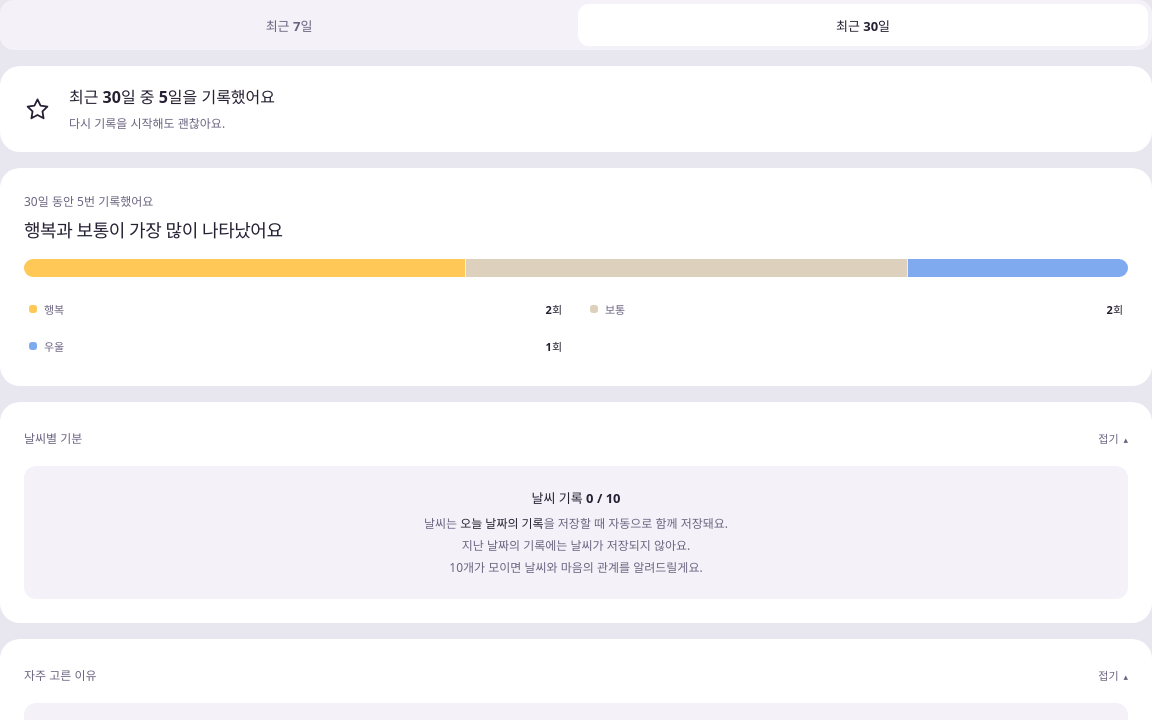
Scenario: 최근 30일 요약과 필터 › M7·M8 감정 범례를 누르면 걸러지고 다시 누르면 풀린다
Click the button named "행복2회" at (33,309), box [24,293,567,325]
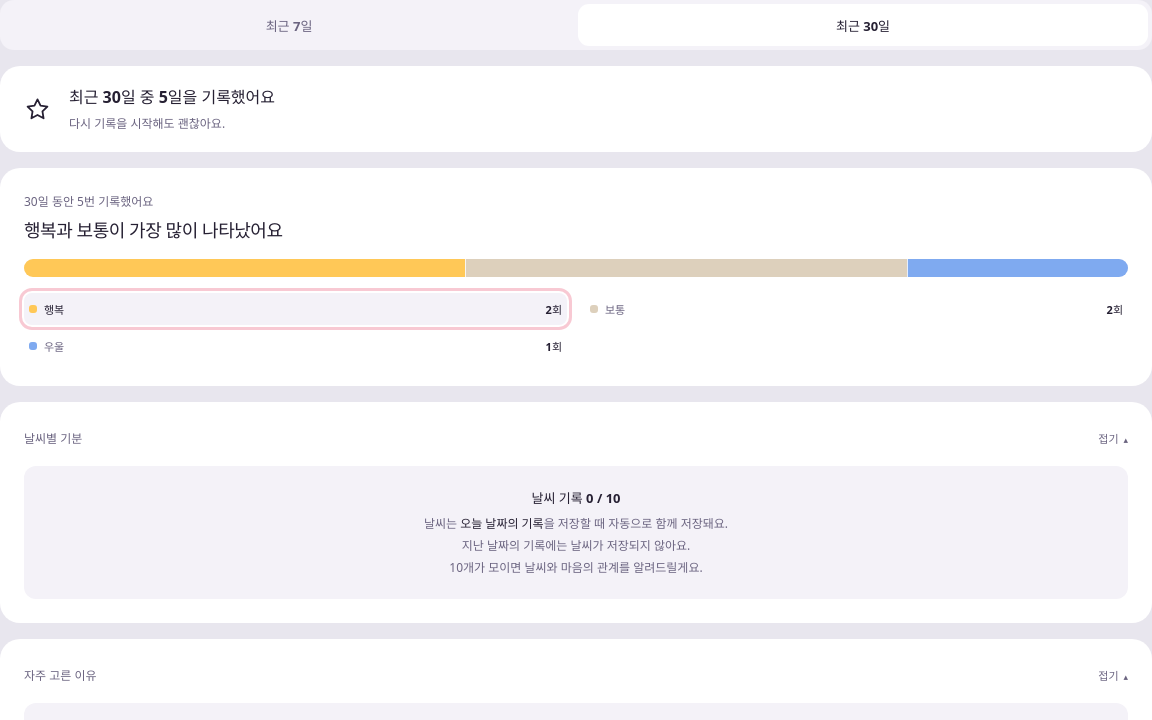
Click the button named "행복2회" at (33,309), box [24,293,567,325]
(page scrolled)
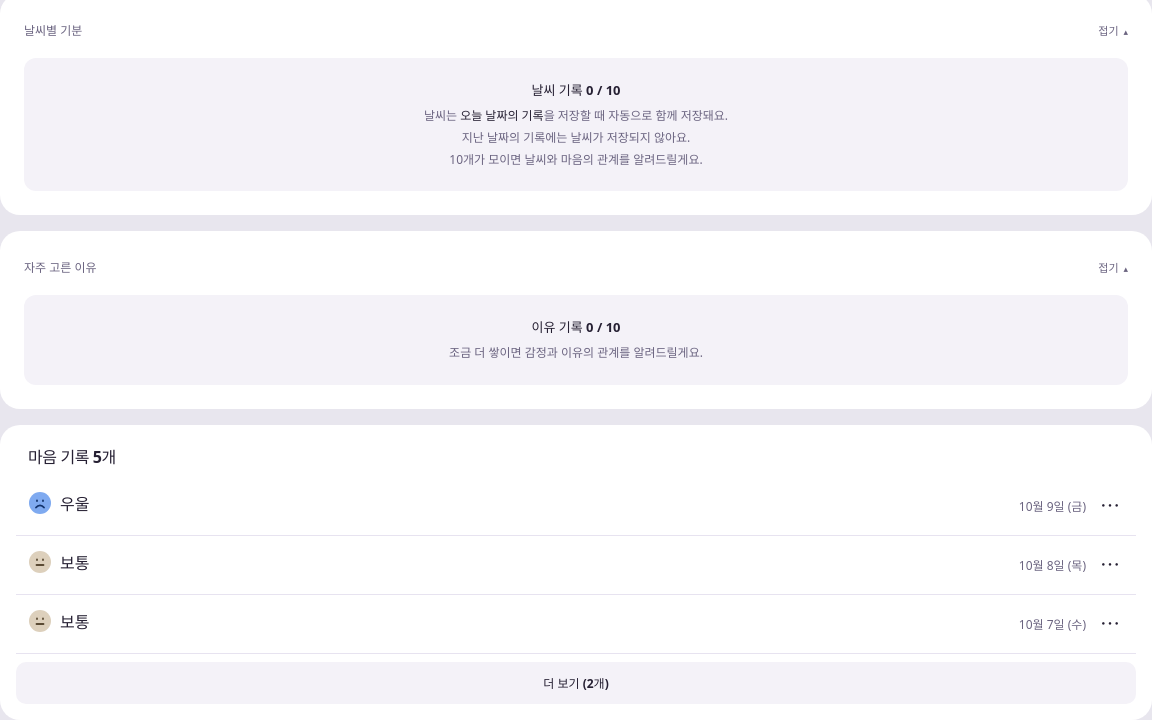
Now the heading "마음 기록 5개" is shown, box [28,444,116,468]
